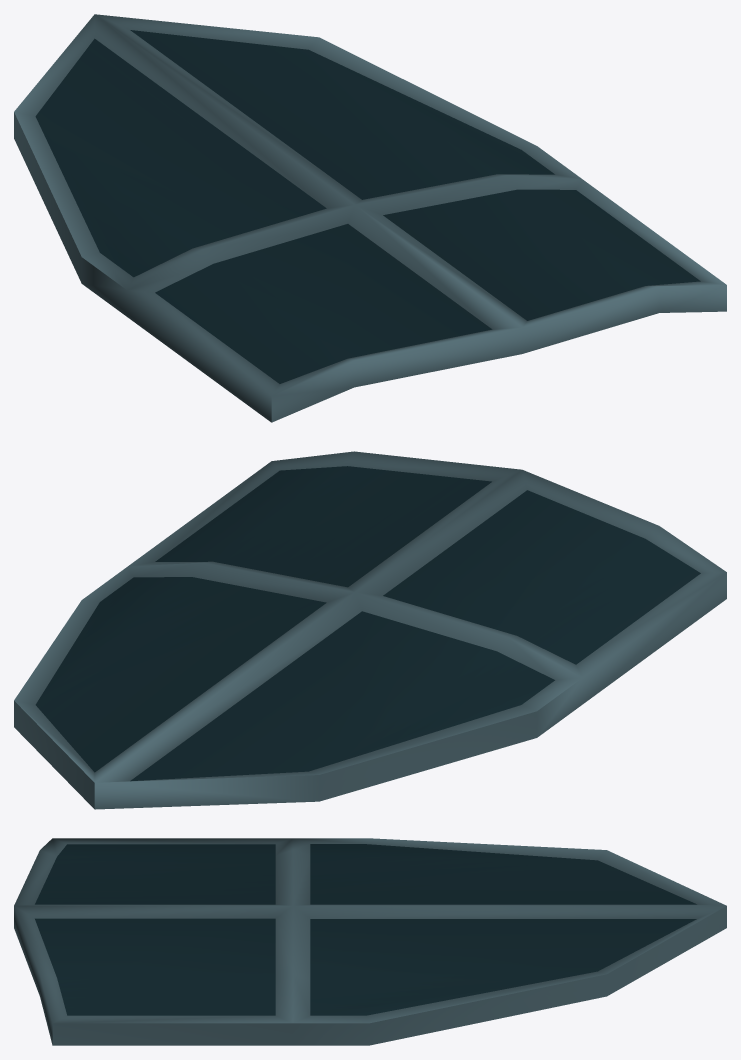
File: obj_shieldCross_LOW.FBX
3 renders of one model, top to bottom at view 1: azimuth 30°, elevation 25°; view 2: azimuth 150°, elevation 25°; view 3: azimuth 270°, elevation 25°, orthographic. The views are drawn at different scales.
Visible parts, largest first — view 1: obj_shieldCross_LOW; view 2: obj_shieldCross_LOW; view 3: obj_shieldCross_LOW.
Boxes of the visible parts, bbox=[...] form: obj_shieldCross_LOW: bbox=[14, 14, 726, 422]; obj_shieldCross_LOW: bbox=[14, 451, 726, 809]; obj_shieldCross_LOW: bbox=[14, 838, 726, 1045].
Size of the model in its own units: 1.39 by 0.2249 by 2.26.
